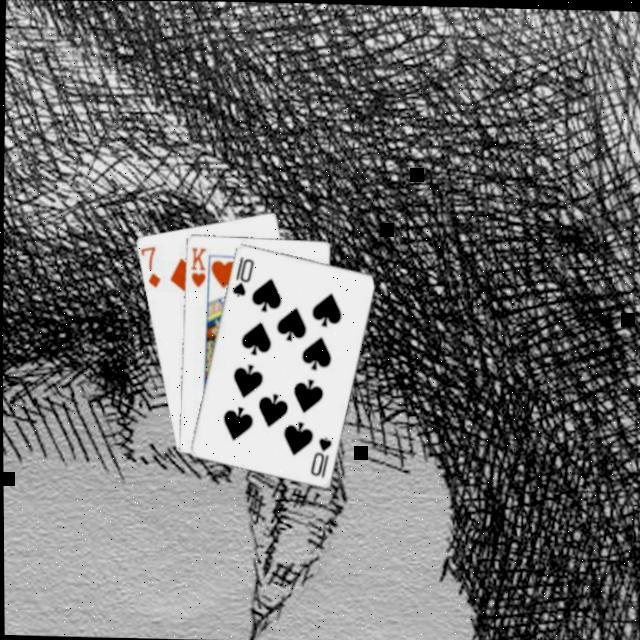10S: (227, 253, 256, 300), (304, 433, 332, 481)
7D: (136, 243, 162, 291)
KH: (185, 244, 208, 290)
